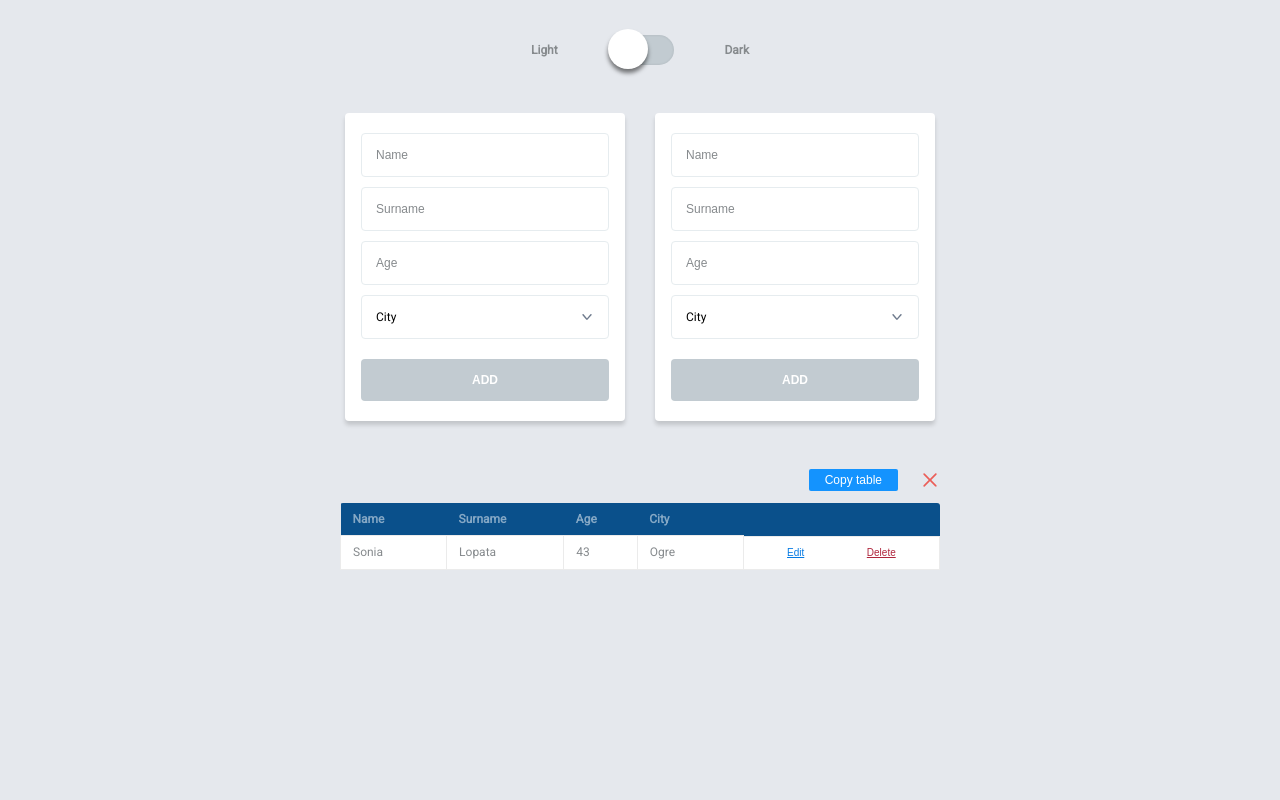
Test: Modal form actions › Opens Modal form on edit button click
The width and height of the screenshot is (1280, 800).
Click the button with test id "btn-edit": (796, 552) [787,546,804,560]
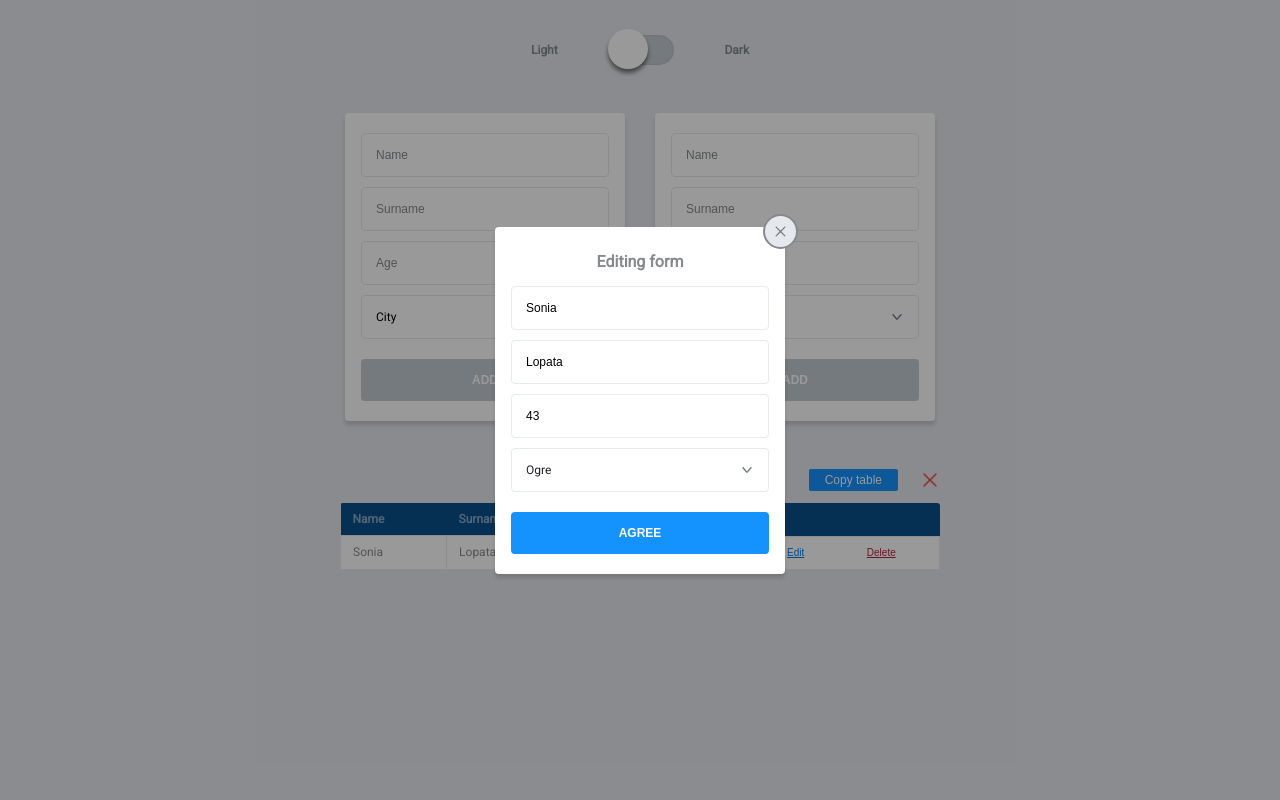
Expected: the heading "Editing form" is shown, [596,252,683,270]
Expected: the button "Agree" is shown, [511,512,769,554]
